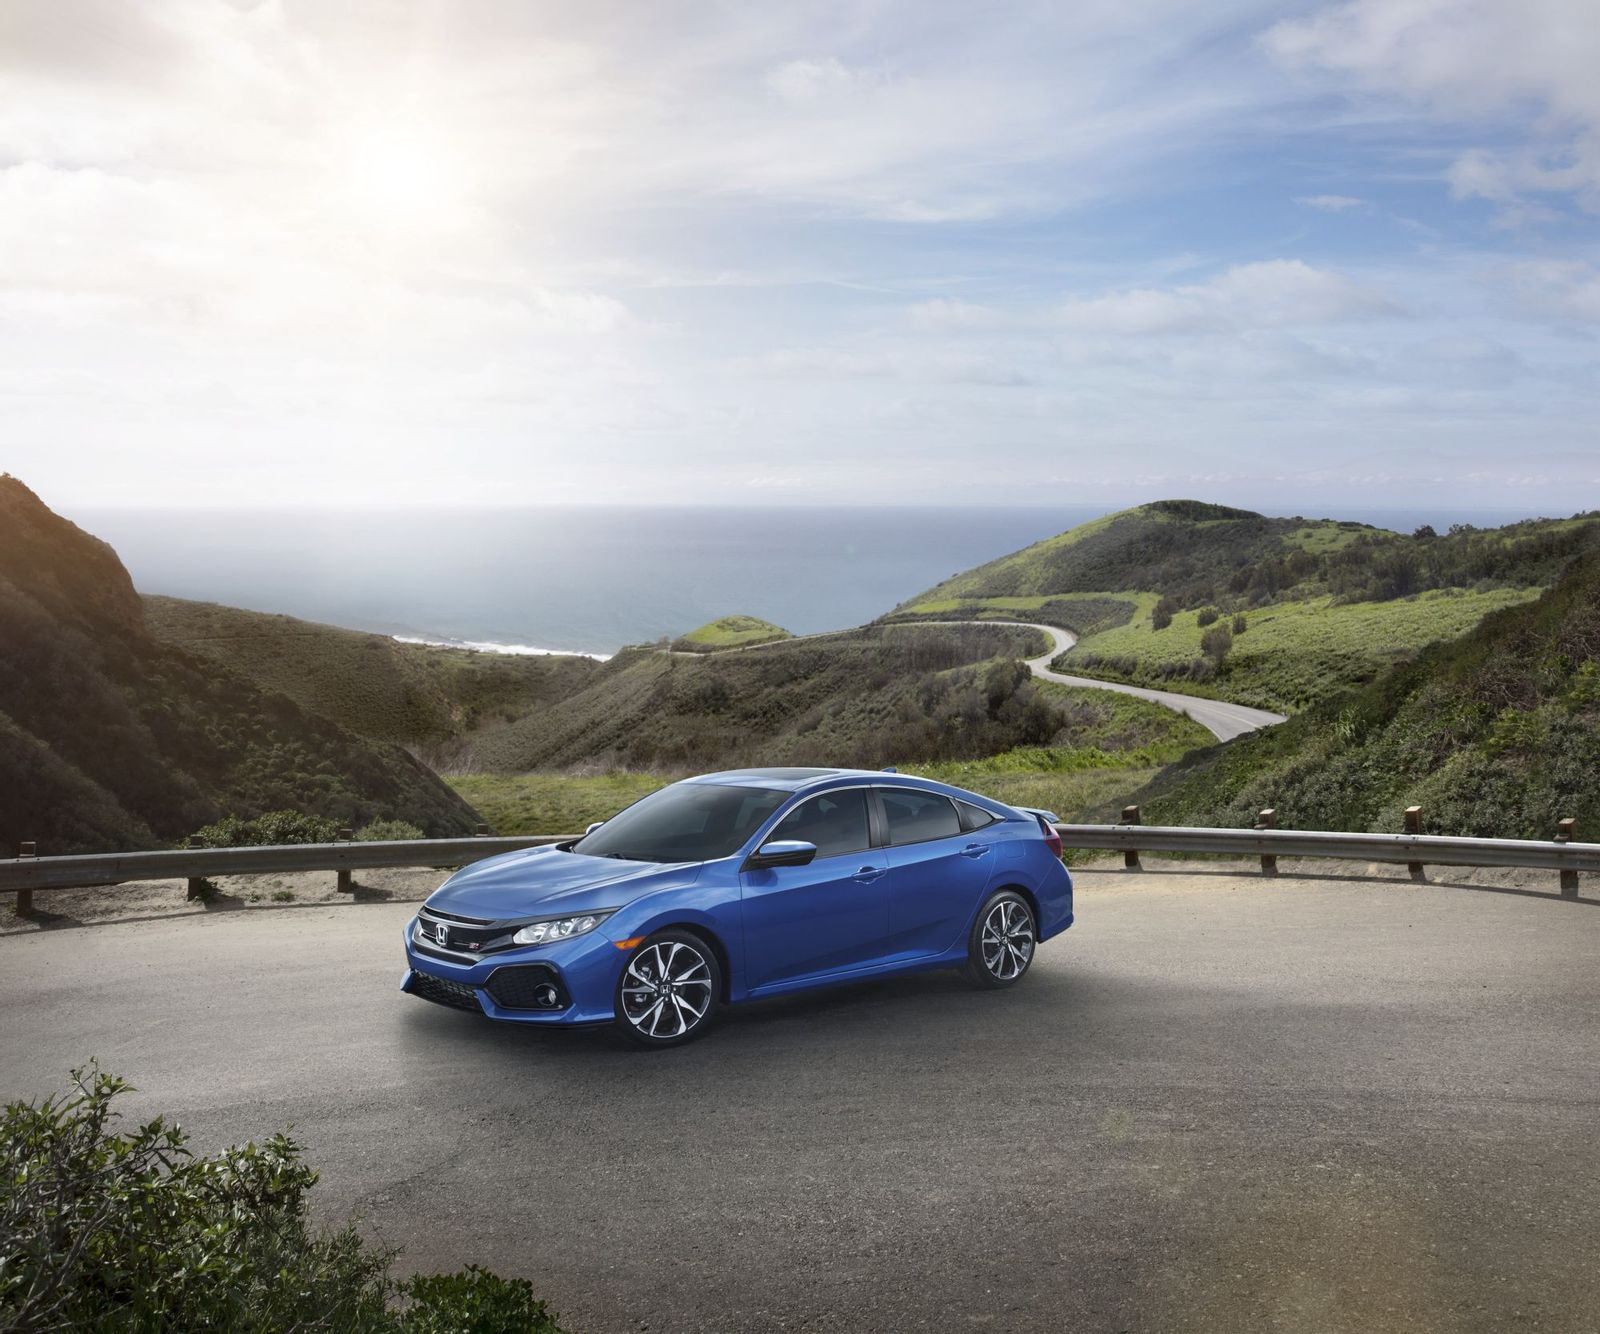car: (393, 767, 1072, 1046)
